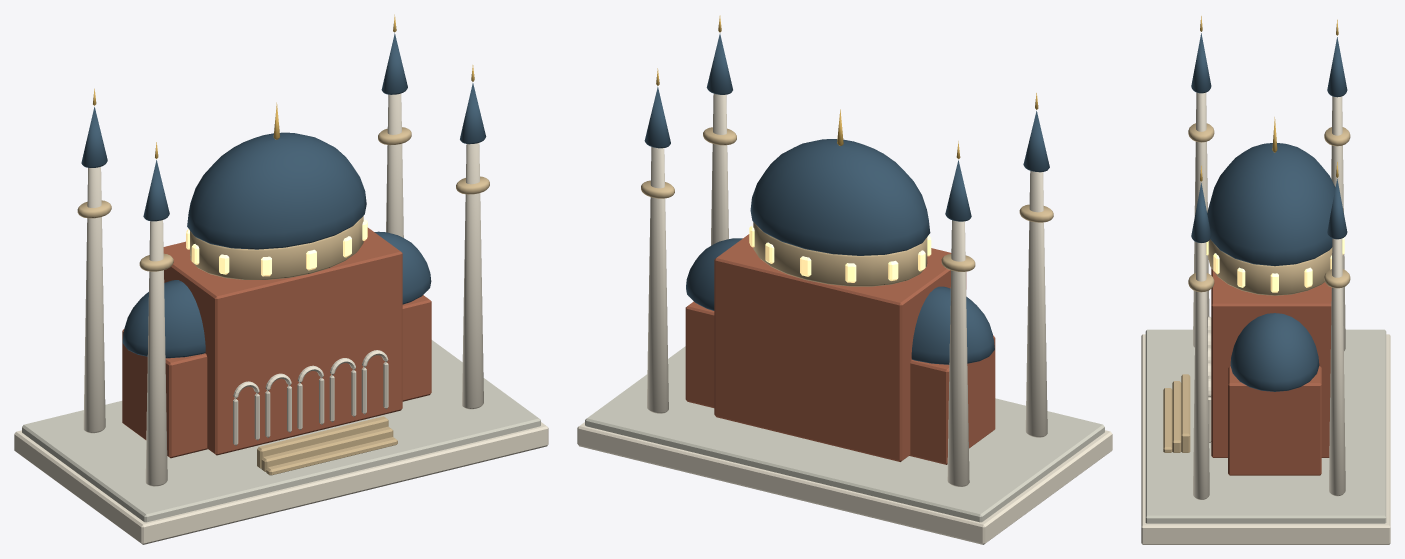
File: hagia-sophia.glb
3 renders of one model, left to right at view 1: azimuth 30°, elevation 25°; view 2: azimuth 150°, elevation 25°; view 3: azimuth 270°, elevation 25°, orthographic. The views are drawn at different scales.
Parts seen in each view (by area): view 1: Hagia Sophia; view 2: Hagia Sophia; view 3: Hagia Sophia.
Part boxes in pixels (x1,y1,x2,y2): Hagia Sophia: [14, 14, 548, 544]; Hagia Sophia: [577, 15, 1112, 544]; Hagia Sophia: [1141, 16, 1390, 544].
Bounding box in the file's own units: 1.47 × 1.28 × 0.8064.
